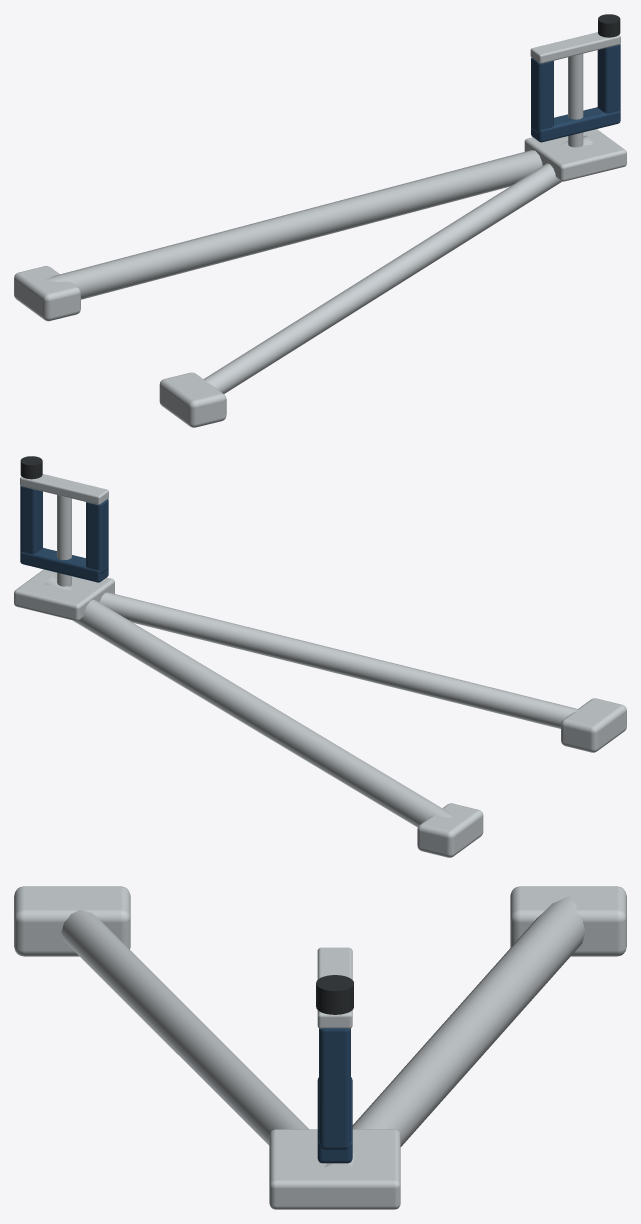
File: rowing-boathouse-and-regatta-course-sweep-side-rigger-d01e3943__32134.glb
3 renders of one model, top to bottom at view 1: azimuth 30°, elevation 25°; view 2: azimuth 150°, elevation 25°; view 3: azimuth 270°, elevation 25°, orthographic. The views are drawn at different scales.
Visible parts, largest first — view 1: sweep-side-rigger; view 2: sweep-side-rigger; view 3: sweep-side-rigger.
Boxes of the visible parts, bbox=[...] form: sweep-side-rigger: bbox=[14, 14, 626, 427]; sweep-side-rigger: bbox=[14, 456, 626, 857]; sweep-side-rigger: bbox=[14, 886, 626, 1209].
Bounding box in the file's own units: 0.703 × 0.281 × 0.42.
